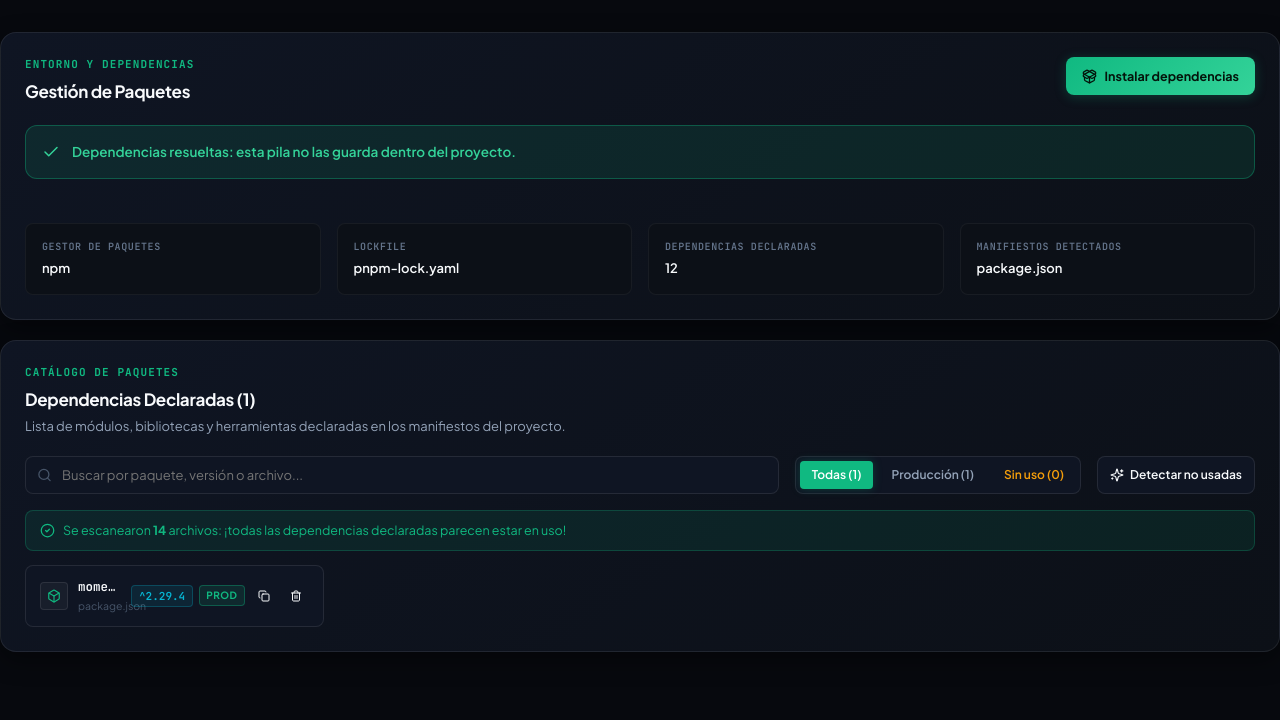
Test: DependenciesTab: detección y eliminación de dependencias huérfanas › cancela la eliminación si el usuario pulsa Cancelar
Click the button named "eliminar dependencia moment".
click(296, 596)  # box [282,583,308,609]
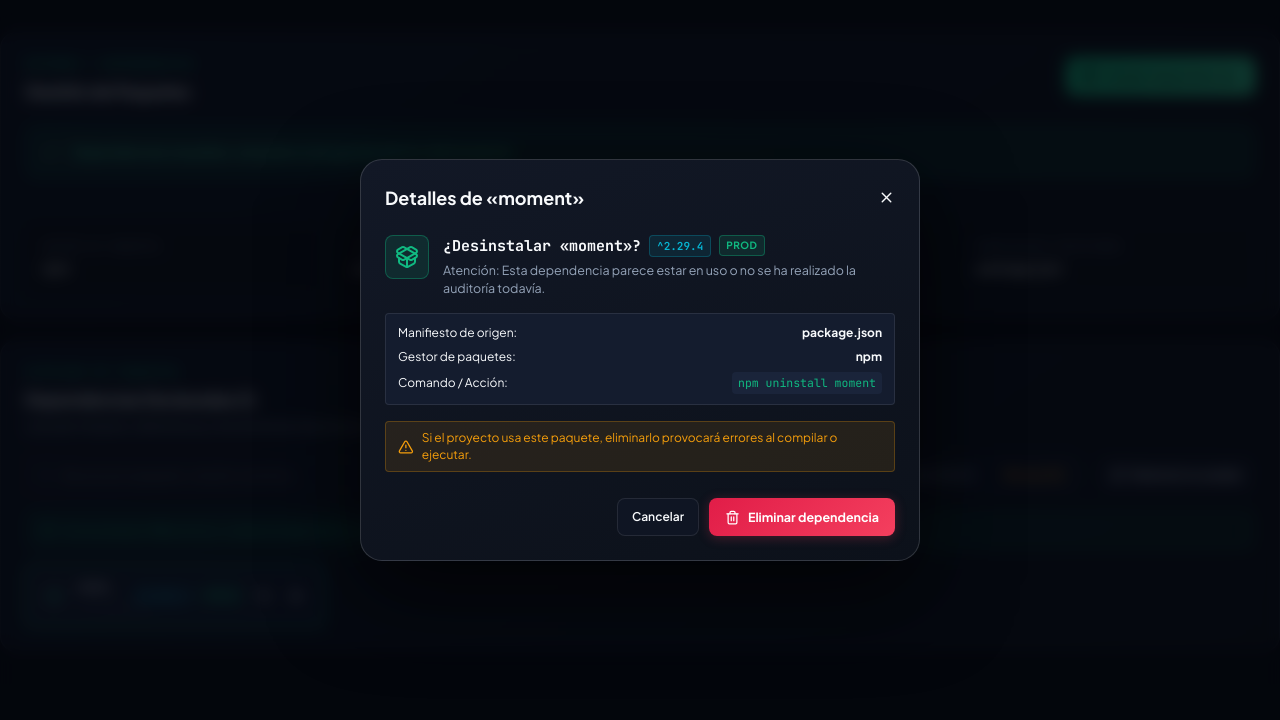
expect the heading "¿Desinstalar «moment»?" is shown: met, box [443,235,641,257]
Click the button "Cancelar".
click(658, 517)  # box [617,498,699,536]
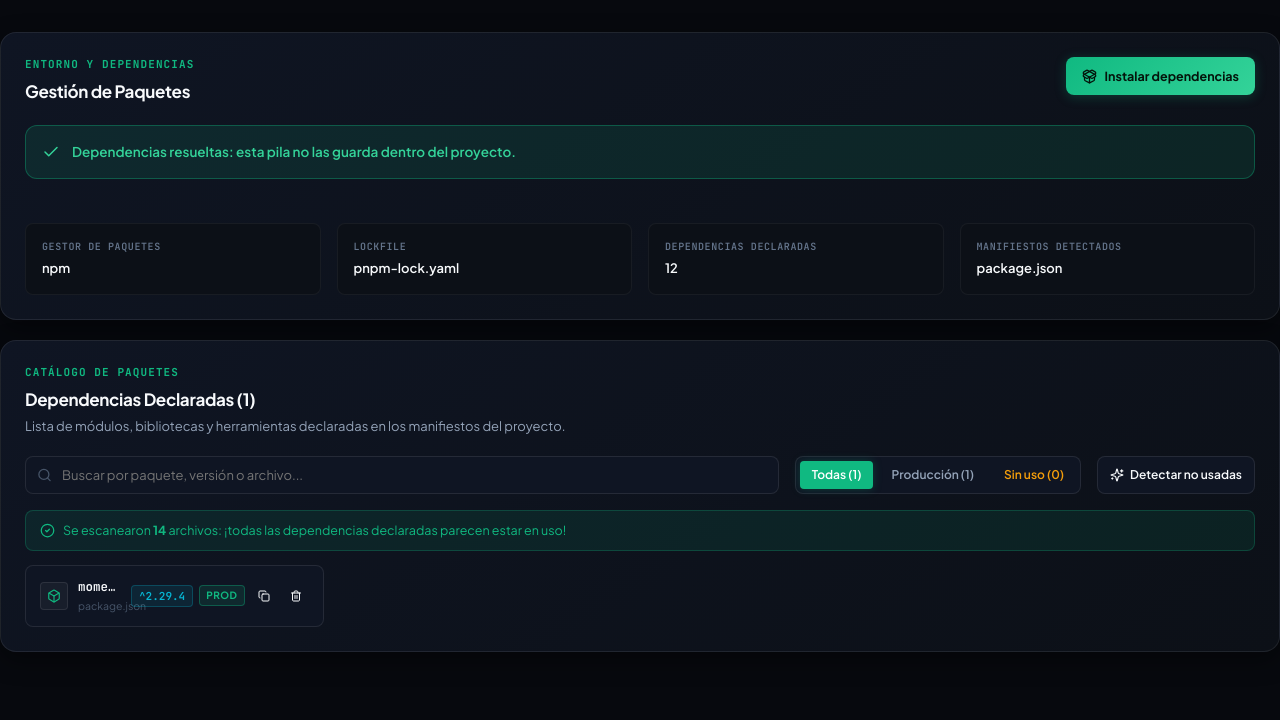
expect the heading "¿Desinstalar «moment»?" is gone: met
